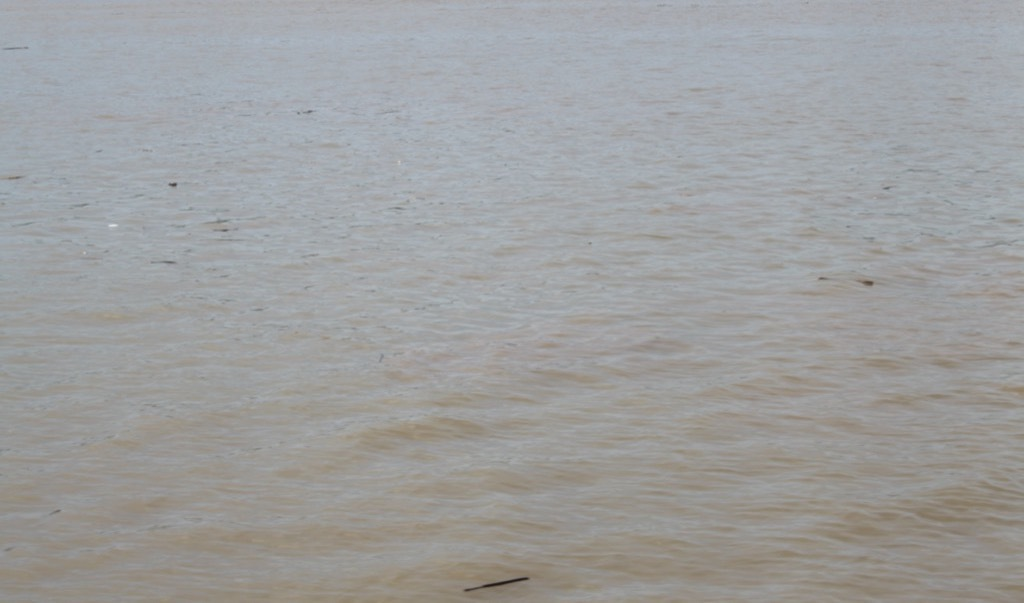organic: (453, 569, 539, 597), (813, 266, 881, 296), (288, 101, 322, 121), (163, 173, 187, 196)
plastic: (96, 212, 131, 242)
